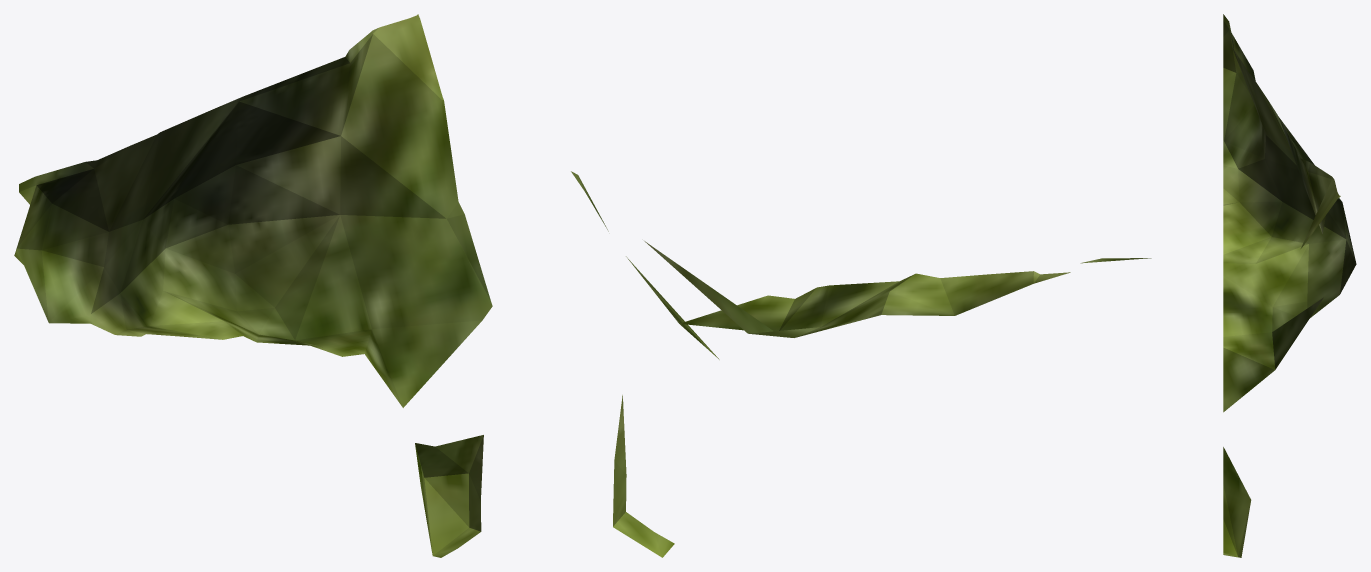
3 views of the same model, side by side, from view 1: azimuth 30°, elevation 25°; view 2: azimuth 150°, elevation 25°; view 3: azimuth 270°, elevation 25° (orthographic). The views are drawn at different scales.
Size of the model in its own units: 0.9747 by 0.9385 by 0.2977.
1 material, 1 textured.
